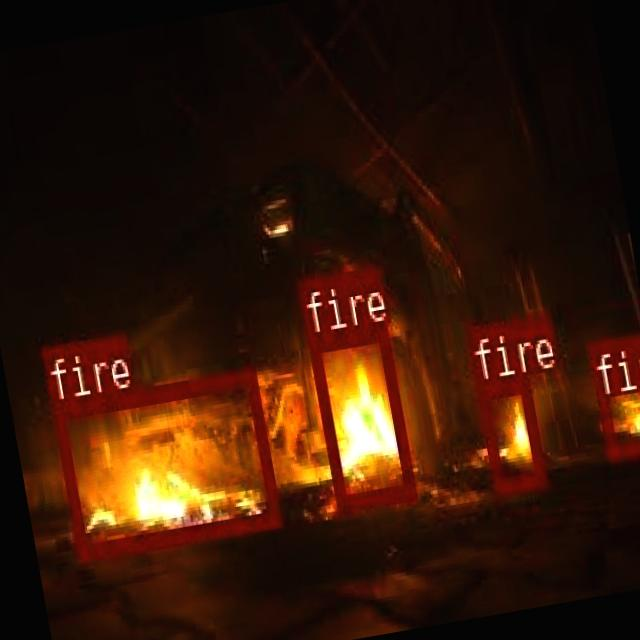fire: (50, 367, 279, 560), (306, 321, 414, 507), (474, 373, 544, 493), (585, 331, 640, 456)
